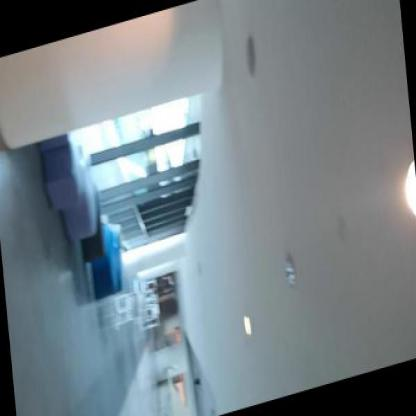light_on: (228, 299, 264, 355), (392, 155, 415, 234)
